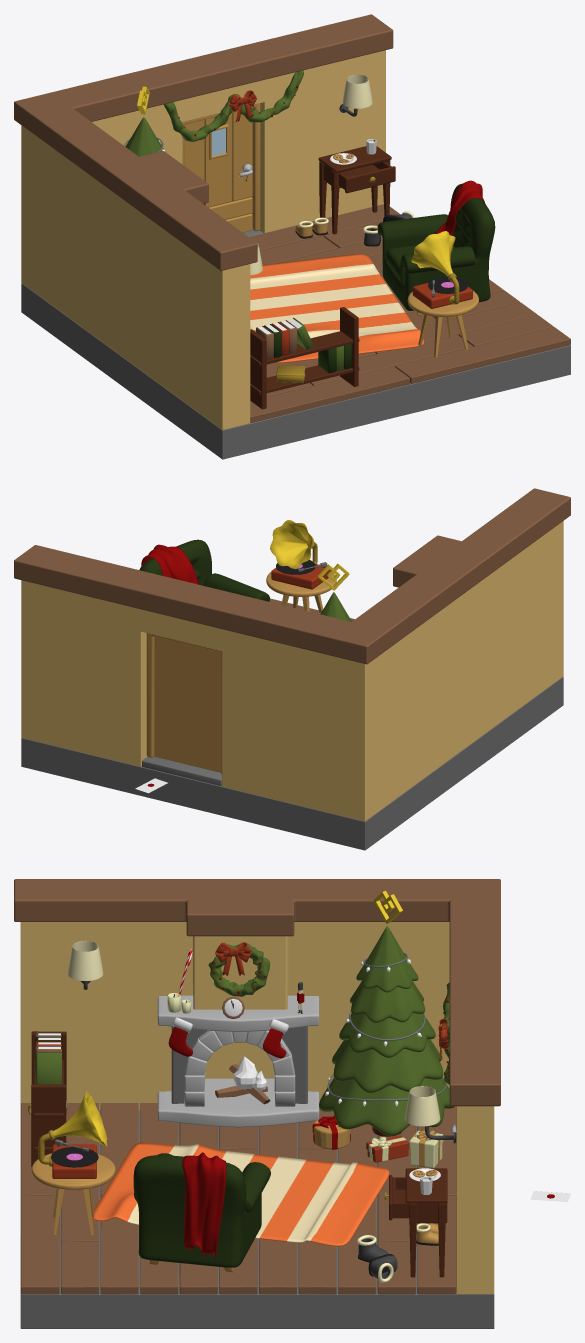
File: admiral.glb
The picture shows the model from 3 angles, top to bottom: view 1: azimuth 30°, elevation 25°; view 2: azimuth 150°, elevation 25°; view 3: azimuth 270°, elevation 25°; orthographic projection. The views are drawn at different scales.
Parts seen in each view (by area): view 1: walls, ceiling, floor-boards, floor-bottom, rug, chair, door-wing, shelf, cupboard, wreath-door, table, grampohone-speaker (+6 smaller); view 2: walls, ceiling, floor-bottom, door-wing, chair, grampohone-speaker, door-frame, chair-blanket, door-floor, table, gramophone-base; view 3: walls, floor-boards, ceiling, floor-bottom, tree, rug, chair, fireplace-cover, chair-blanket, fireplace-arch, shelf, cupboard (+13 smaller).
Part boxes in pixels (x1=…): walls: x1=21, y1=50, x2=385, y2=429; ceiling: x1=14, y1=14, x2=393, y2=270; floor-boards: x1=249, y1=204, x2=570, y2=422; floor-bottom: x1=21, y1=283, x2=570, y2=459; rug: x1=250, y1=254, x2=424, y2=362; chair: x1=377, y1=183, x2=495, y2=310; door-wing: x1=185, y1=108, x2=252, y2=232; shelf: x1=250, y1=307, x2=359, y2=409; cupboard: x1=318, y1=146, x2=391, y2=234; wreath-door: x1=163, y1=70, x2=303, y2=141; table: x1=407, y1=291, x2=478, y2=357; grampohone-speaker: x1=411, y1=231, x2=455, y2=276; walls: x1=21, y1=521, x2=563, y2=821; ceiling: x1=14, y1=488, x2=570, y2=664; floor-bottom: x1=21, y1=676, x2=563, y2=850; door-wing: x1=154, y1=636, x2=220, y2=772; chair: x1=139, y1=539, x2=269, y2=601; grampohone-speaker: x1=270, y1=520, x2=313, y2=569; door-frame: x1=146, y1=633, x2=221, y2=774; chair-blanket: x1=141, y1=544, x2=198, y2=584; door-floor: x1=142, y1=756, x2=221, y2=785; table: x1=266, y1=572, x2=336, y2=612; gramophone-base: x1=271, y1=564, x2=330, y2=589; walls: x1=20, y1=922, x2=494, y2=1294; floor-boards: x1=20, y1=1103, x2=456, y2=1294; ceiling: x1=14, y1=879, x2=500, y2=1106; floor-bottom: x1=20, y1=1110, x2=494, y2=1328; tree: x1=319, y1=926, x2=454, y2=1135; rug: x1=92, y1=1142, x2=389, y2=1246; chair: x1=133, y1=1153, x2=270, y2=1267; fireplace-cover: x1=157, y1=995, x2=319, y2=1127; chair-blanket: x1=182, y1=1152, x2=226, y2=1260; fireplace-arch: x1=184, y1=1030, x2=295, y2=1106; shelf: x1=31, y1=1031, x2=66, y2=1166; cupboard: x1=405, y1=1168, x2=447, y2=1277.
Size of what is drawn, in the model's own units: 5.1 by 3.24 by 5.83.
24 materials, 2 textured.
